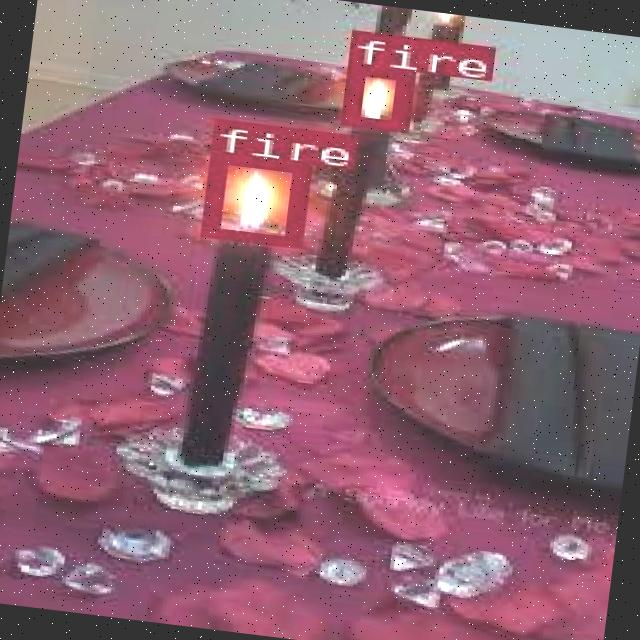fire: (200, 152, 307, 245), (339, 61, 412, 130)
